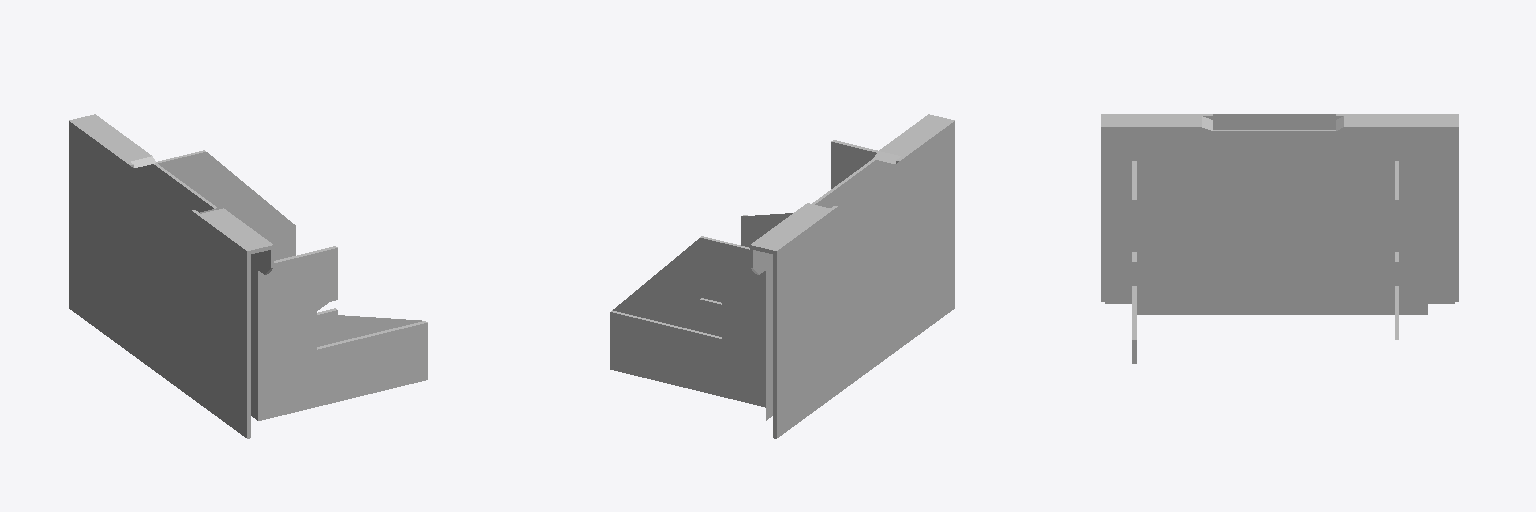
Rendered from Liquid Galaxy Voice Insid Object.obj.
3 views of the same model, side by side, from view 1: azimuth 30°, elevation 25°; view 2: azimuth 150°, elevation 25°; view 3: azimuth 270°, elevation 25° (orthographic).
Visible parts, largest first — view 1: Mesh1 Model; view 2: Mesh1 Model; view 3: Mesh1 Model.
Part boxes in pixels (bbox=[...]): Mesh1 Model: bbox=[69, 114, 427, 438]; Mesh1 Model: bbox=[610, 114, 954, 438]; Mesh1 Model: bbox=[1101, 114, 1458, 363].
Bounding box in the file's own units: 176 × 161 × 278.